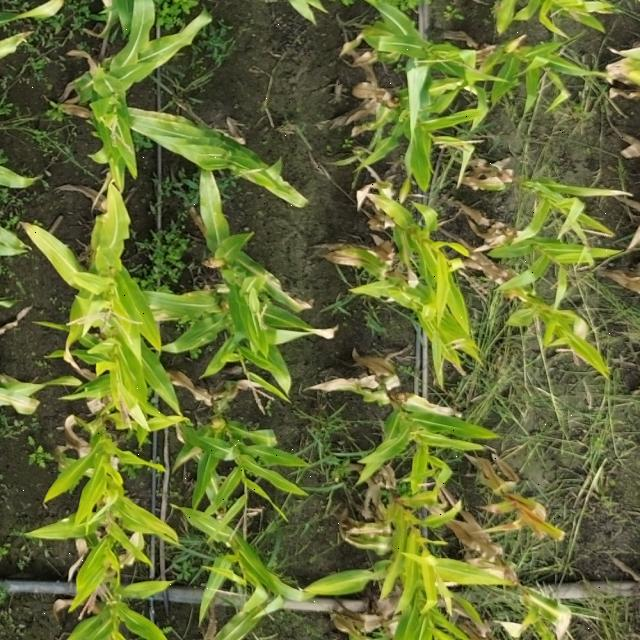northern-leaf-blight: (237, 254, 325, 322)
